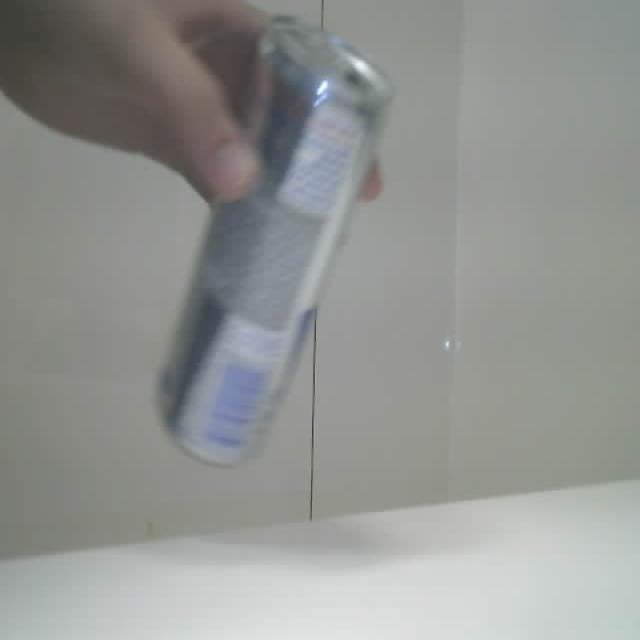redbull can: (160, 16, 391, 465)
